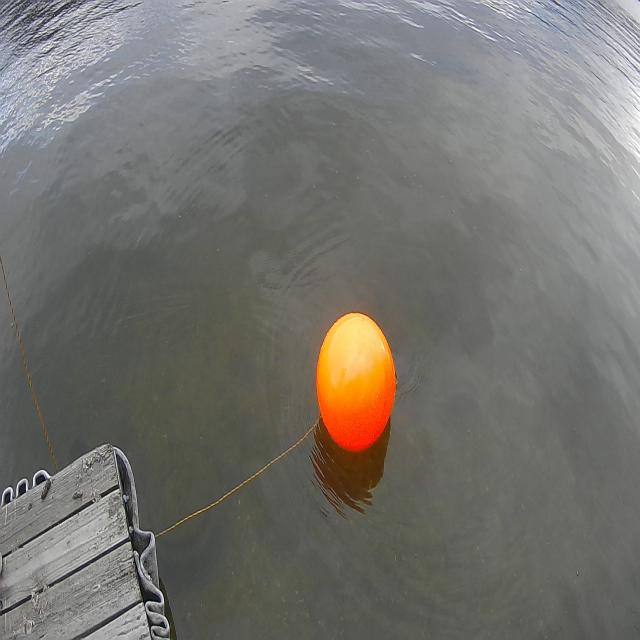Buoy: (309, 298, 407, 464)
